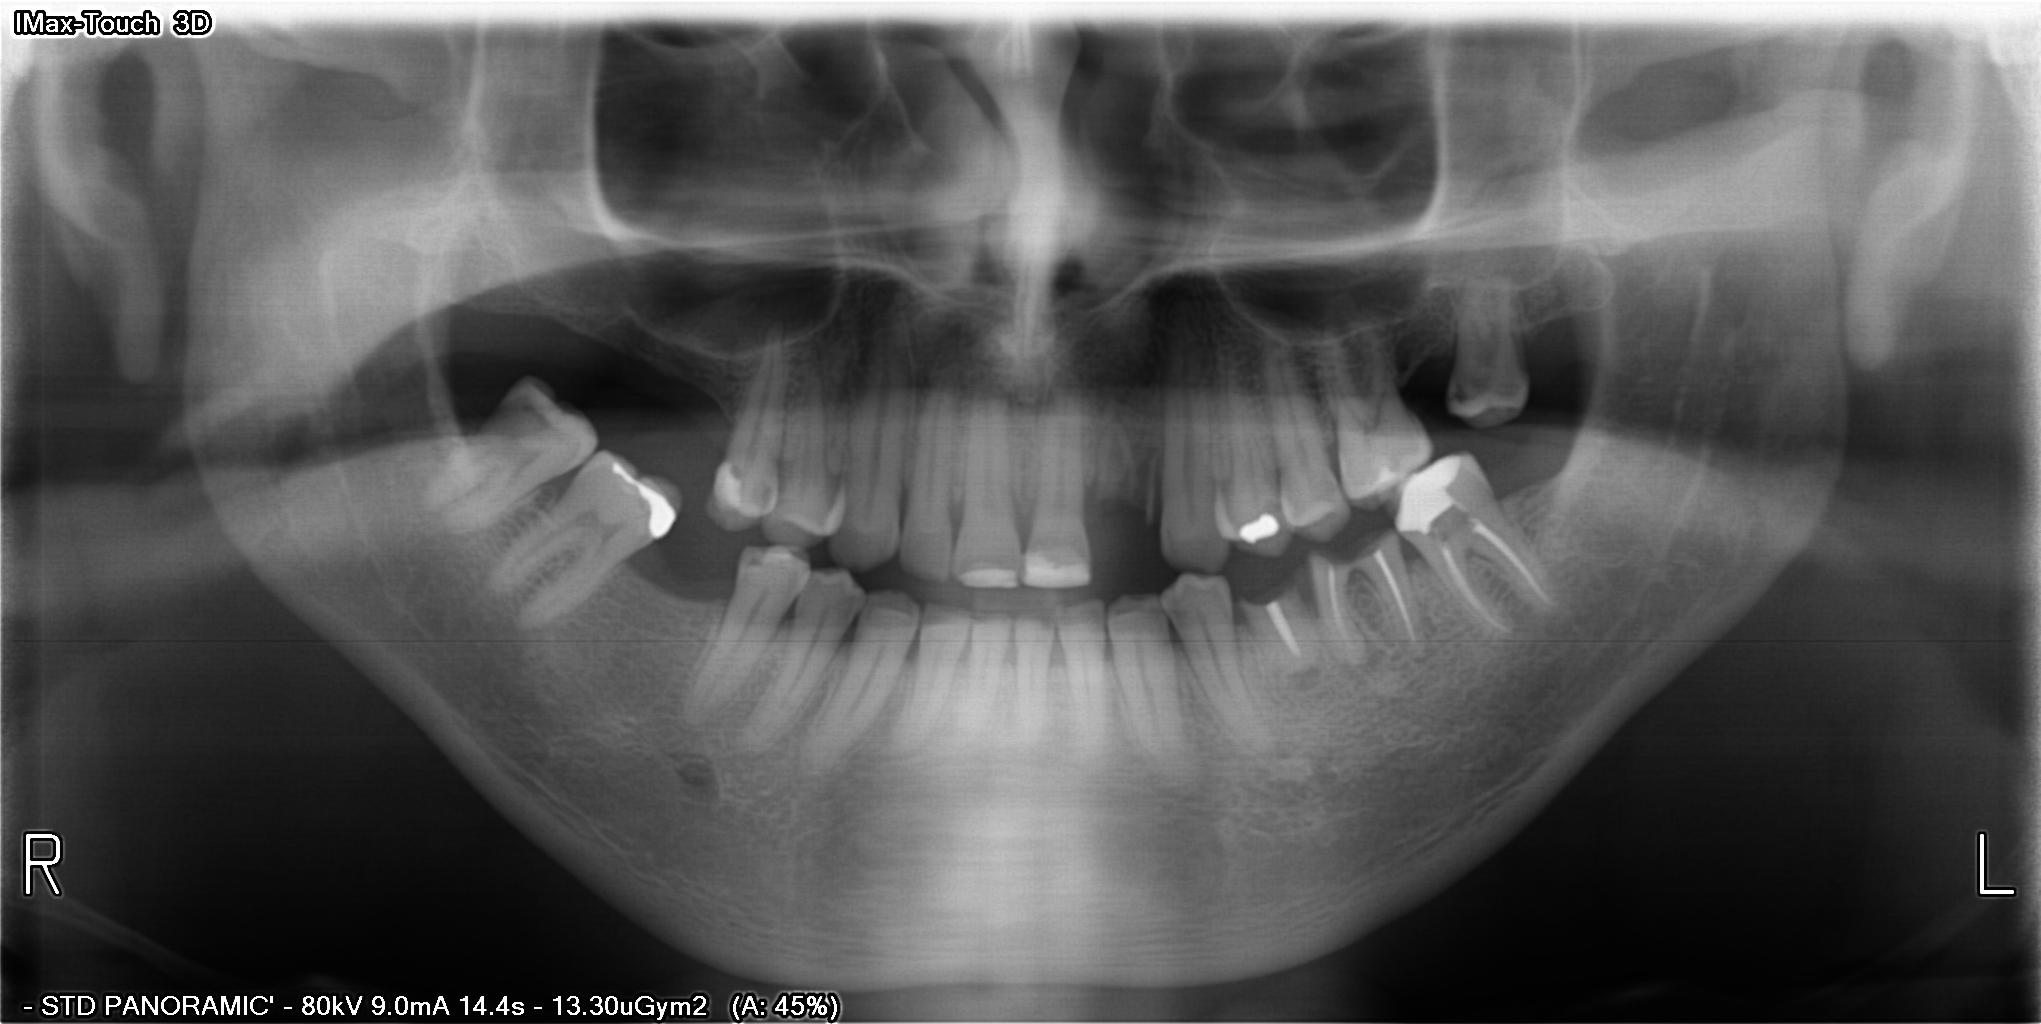Çürük: (592, 438, 688, 546), (1382, 441, 1473, 547), (1226, 498, 1288, 552), (956, 568, 1027, 598), (1030, 562, 1096, 590)
Çürük Bölgesi: (1310, 538, 1394, 568), (1242, 574, 1292, 608), (961, 552, 1018, 573), (740, 539, 762, 576), (730, 457, 751, 494), (760, 478, 776, 511)
